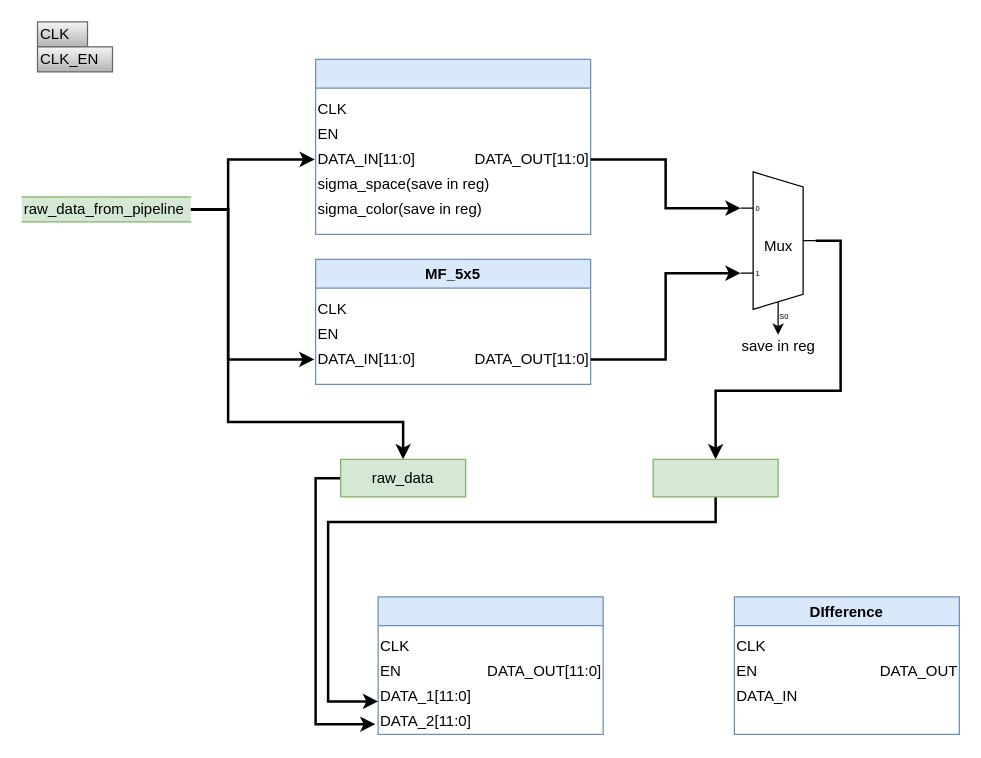
Image size: 981x758. Some labels were removed from this diagram. Here are the shapes that lost their labels. From the top down, the box of each, then its label:
(314, 58, 591, 234): BF_5x5
(652, 458, 778, 497): filter_data
(377, 596, 603, 734): NoiseMaping
